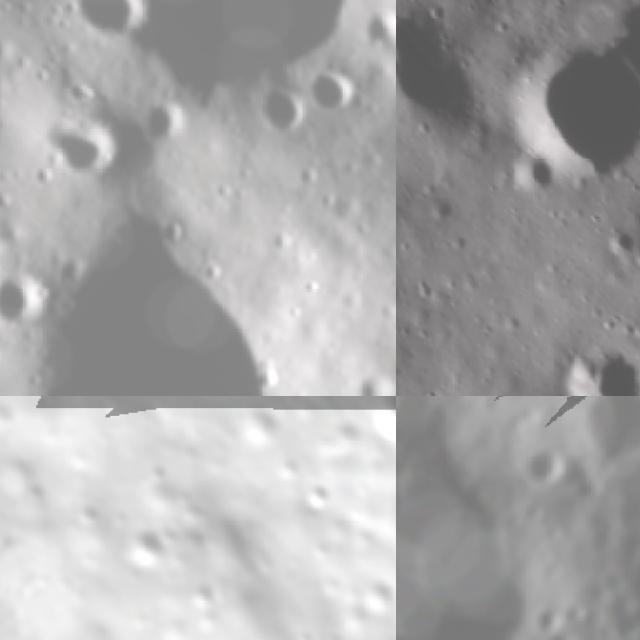crater: (7, 0, 396, 229), (0, 164, 352, 396), (497, 30, 640, 213), (396, 0, 522, 182), (230, 65, 326, 163), (31, 0, 165, 69), (32, 96, 128, 189), (535, 311, 640, 396), (0, 248, 71, 351), (293, 50, 377, 132), (564, 396, 640, 484), (396, 0, 538, 46), (497, 144, 570, 218), (221, 396, 292, 458), (111, 516, 177, 582), (520, 436, 579, 498), (596, 214, 640, 276), (348, 0, 396, 56), (351, 573, 396, 630), (358, 396, 396, 461), (616, 229, 640, 327), (180, 568, 229, 616), (558, 600, 601, 640), (523, 600, 565, 639), (302, 479, 341, 517), (68, 495, 105, 532), (396, 156, 413, 218)
